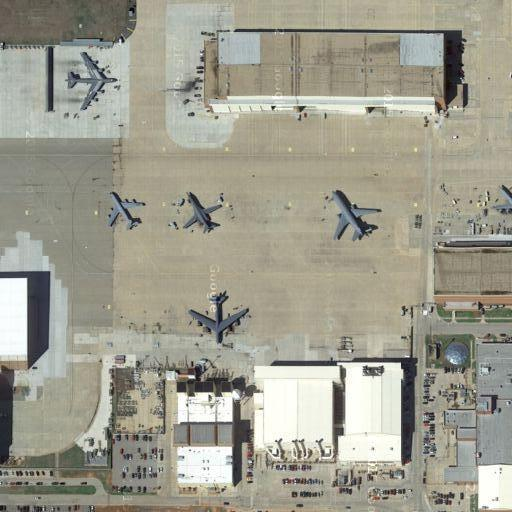B-1B: (182, 191, 227, 236)
B-52: (188, 288, 254, 349), (66, 49, 120, 114)
KC-10: (325, 190, 384, 244)
KC-135: (103, 192, 148, 232)
